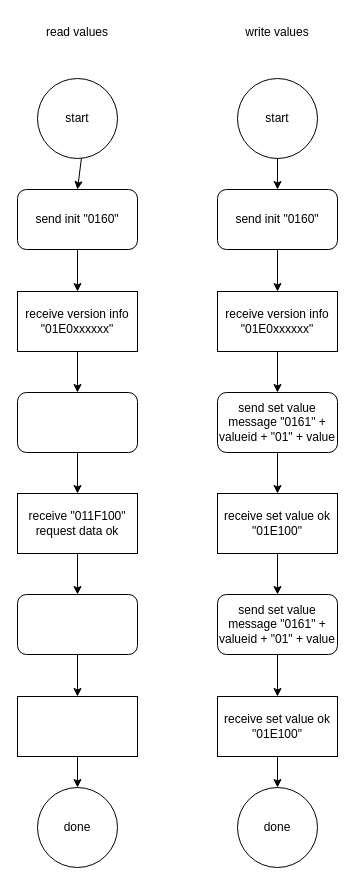
The diagram is 355 pixels wide and 885 high, and some of its shapes have lost their labels. Here are the shapes that lost their labels. From the top down, the box of each, then its label:
(16, 392, 138, 452): request data block "0171xx00
(16, 594, 138, 654): request data content "0172"
(16, 696, 138, 756): receive data "01F200..."
